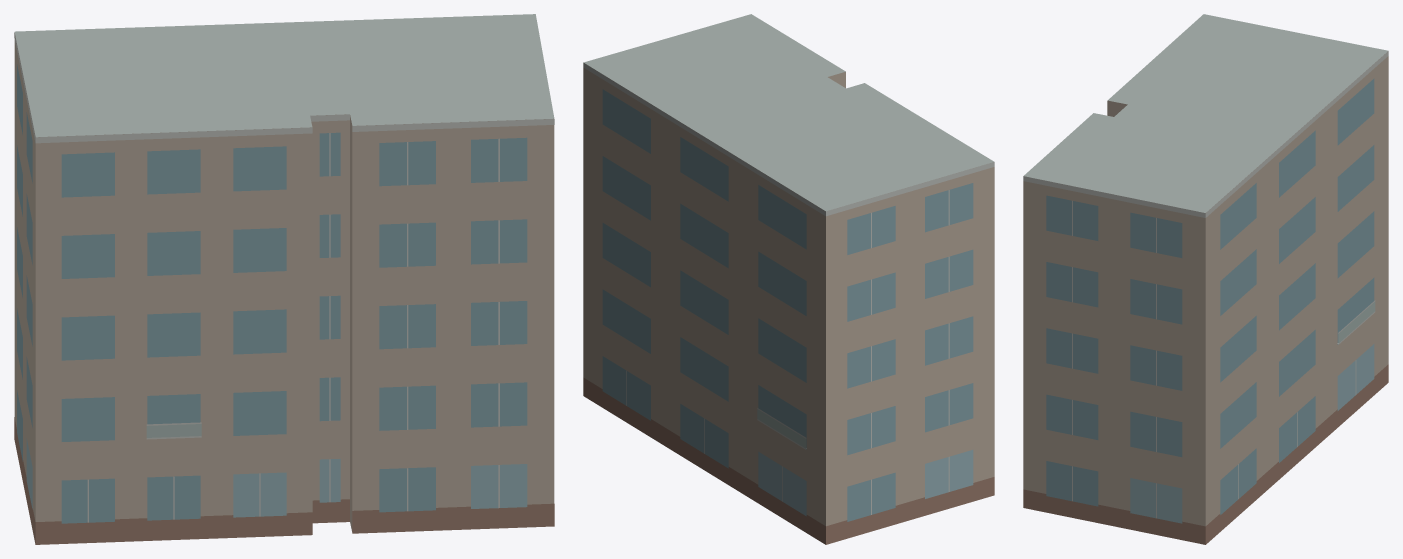
Rendered from survey-upis-32979962.glb.
The picture shows the model from 3 angles, left to right: view 1: azimuth 30°, elevation 25°; view 2: azimuth 150°, elevation 25°; view 3: azimuth 270°, elevation 25°; orthographic projection. The views are drawn at different scales.
Parts seen in each view (by area): view 1: survey-upis-32979962.tmp; view 2: survey-upis-32979962.tmp; view 3: survey-upis-32979962.tmp.
Boxes of the visible parts, bbox=[...] form: survey-upis-32979962.tmp: bbox=[14, 14, 554, 544]; survey-upis-32979962.tmp: bbox=[583, 14, 994, 544]; survey-upis-32979962.tmp: bbox=[1023, 14, 1388, 544].
Bounding box in the file's own units: 20.92 × 16.25 × 16.22.
